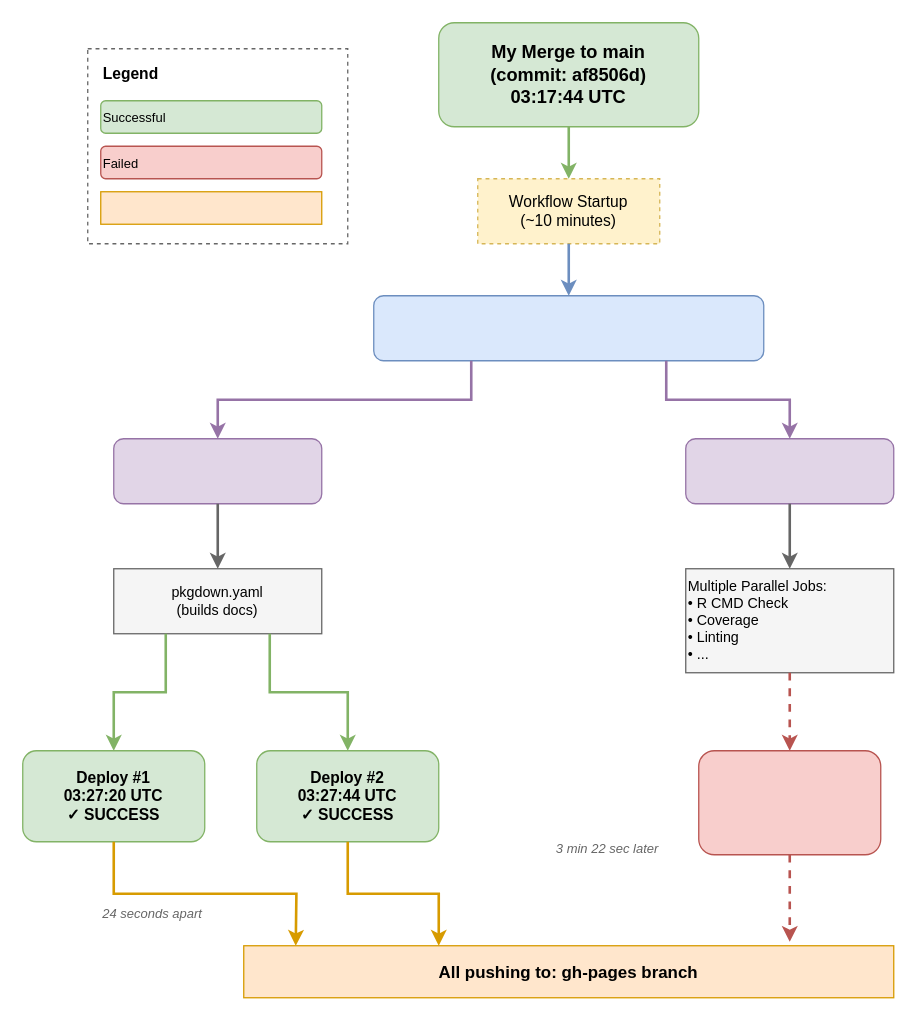
Image size: 916x1020. Some labels were removed from this diagram. Here are the shapes that lost their labels. From the top down, the box of each, then its label:
(99, 190, 322, 224): Target Branch
(372, 294, 764, 361): Both Workflows Triggered Simultaneously
(112, 437, 322, 504): docs.yaml
(684, 437, 894, 504): check.yaml
(697, 749, 881, 855): Deploy #3 03:31:06 UTC ✗ FAILED (race condition)
